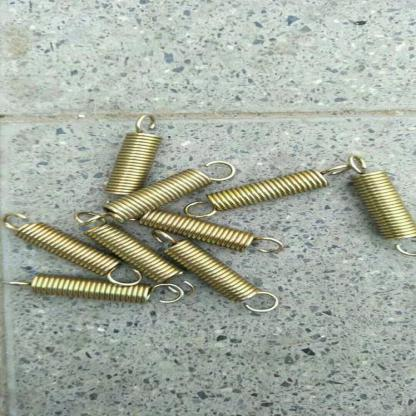FOD: (147, 226, 286, 314), (69, 156, 240, 226), (0, 214, 144, 289), (182, 158, 353, 220), (74, 205, 186, 283), (127, 208, 285, 258), (346, 152, 415, 256), (0, 277, 189, 306), (105, 110, 161, 200)
